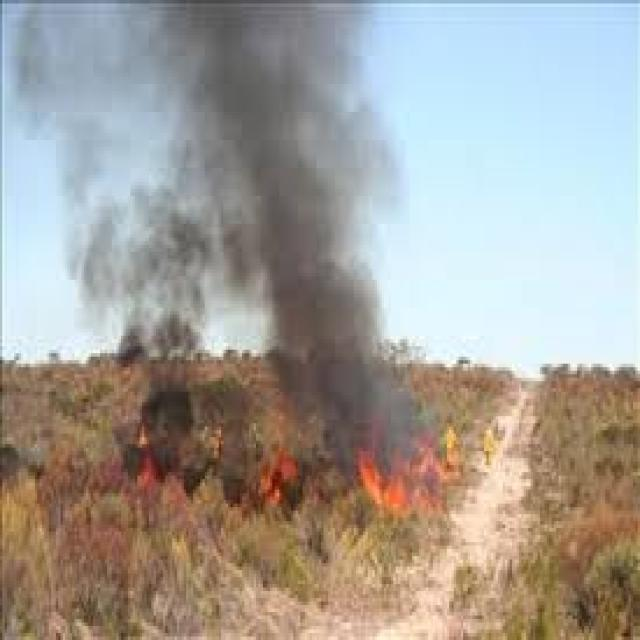Fire: (359, 455, 431, 513), (125, 436, 178, 502), (258, 455, 298, 505)
Smoke: (93, 2, 443, 478), (9, 16, 121, 279)
